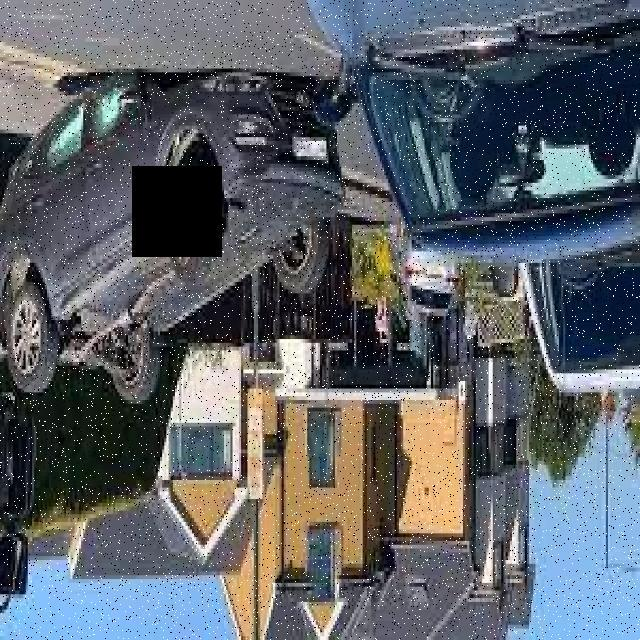severe: (0, 62, 348, 410)
